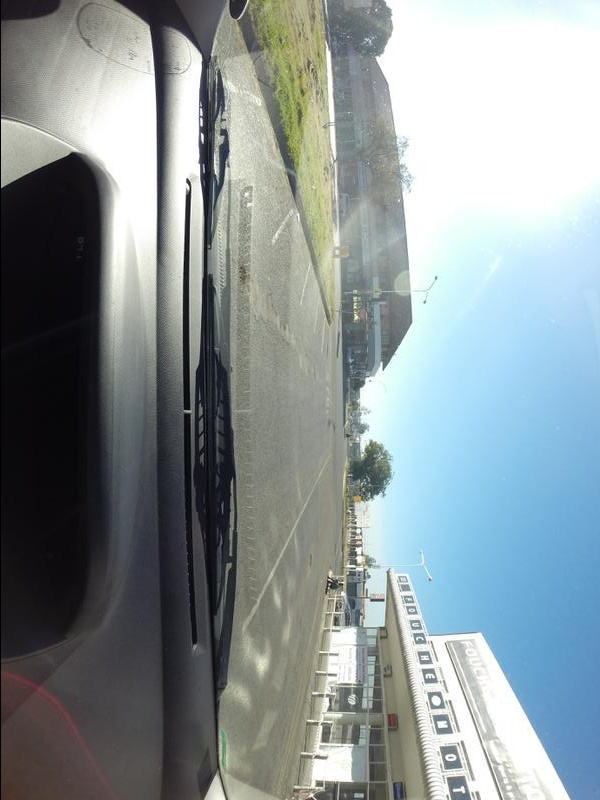pothole: (236, 262, 250, 295), (306, 551, 314, 574), (278, 325, 289, 337), (332, 423, 337, 434), (326, 418, 331, 425)
